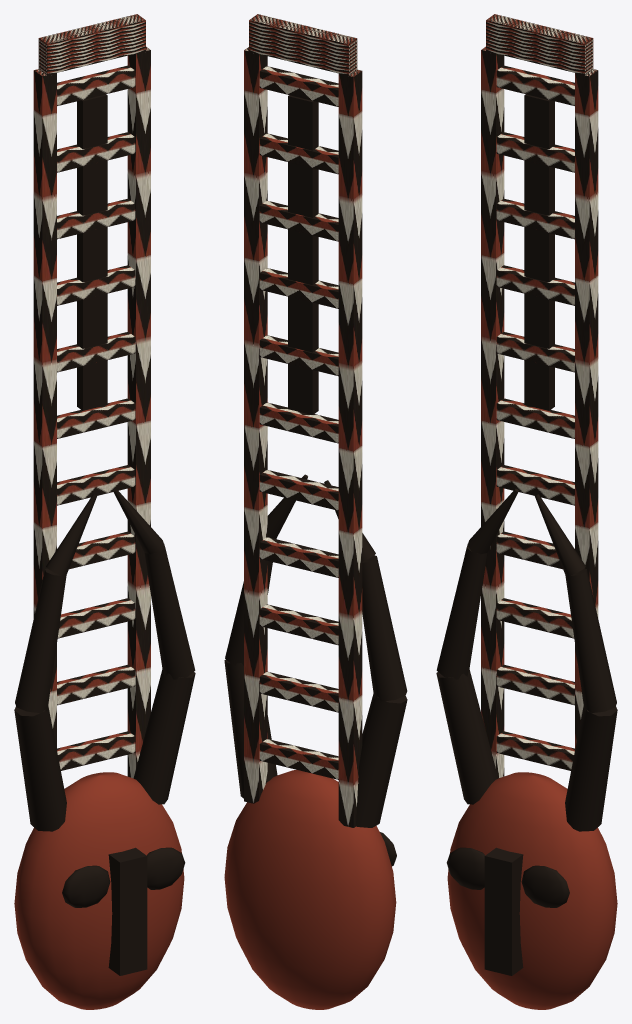
File: masque-karanga.glb
3 views of the same model, side by side, from view 1: azimuth 30°, elevation 25°; view 2: azimuth 150°, elevation 25°; view 3: azimuth 330°, elevation 25° (orthographic).
Visible parts, largest first — view 1: masque-karanga; view 2: masque-karanga; view 3: masque-karanga.
Part boxes in pixels (<box>): masque-karanga: <box>14,14,195,1009</box>; masque-karanga: <box>224,14,407,1009</box>; masque-karanga: <box>436,14,617,1009</box>.
Size of the model in its own units: 0.3588 by 1.88 by 0.215.
3 materials, 1 textured.
